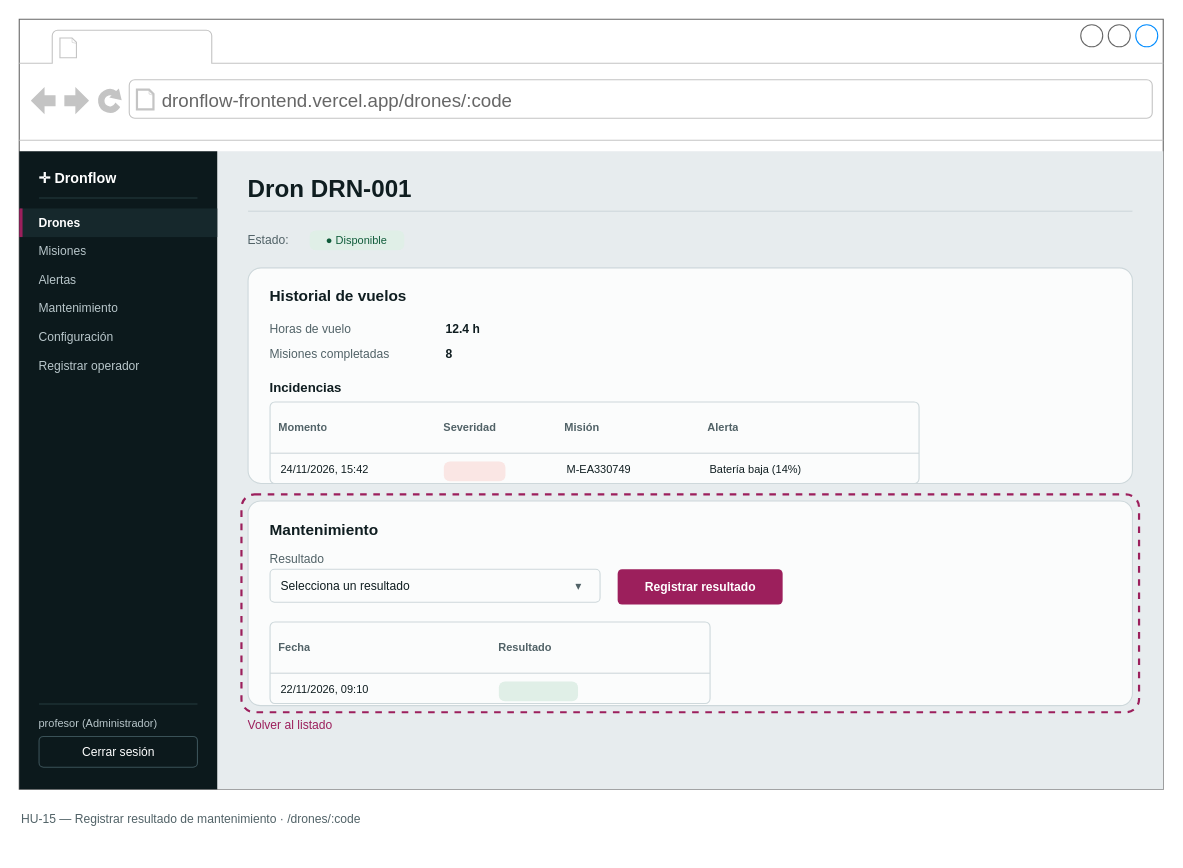
Image size: 1183x868. Some labels were removed from this diagram. Here are the shapes that lost their labels. From the top down, the centre of each, then its label:
point (474, 471): ● Alta
point (538, 691): ● Reparado
